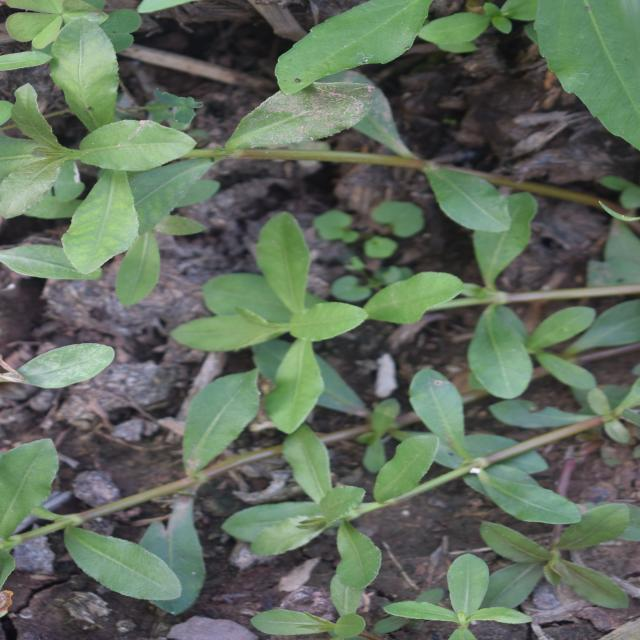Alligatorweed: (234, 126, 419, 480), (405, 102, 584, 402), (22, 440, 272, 633)
